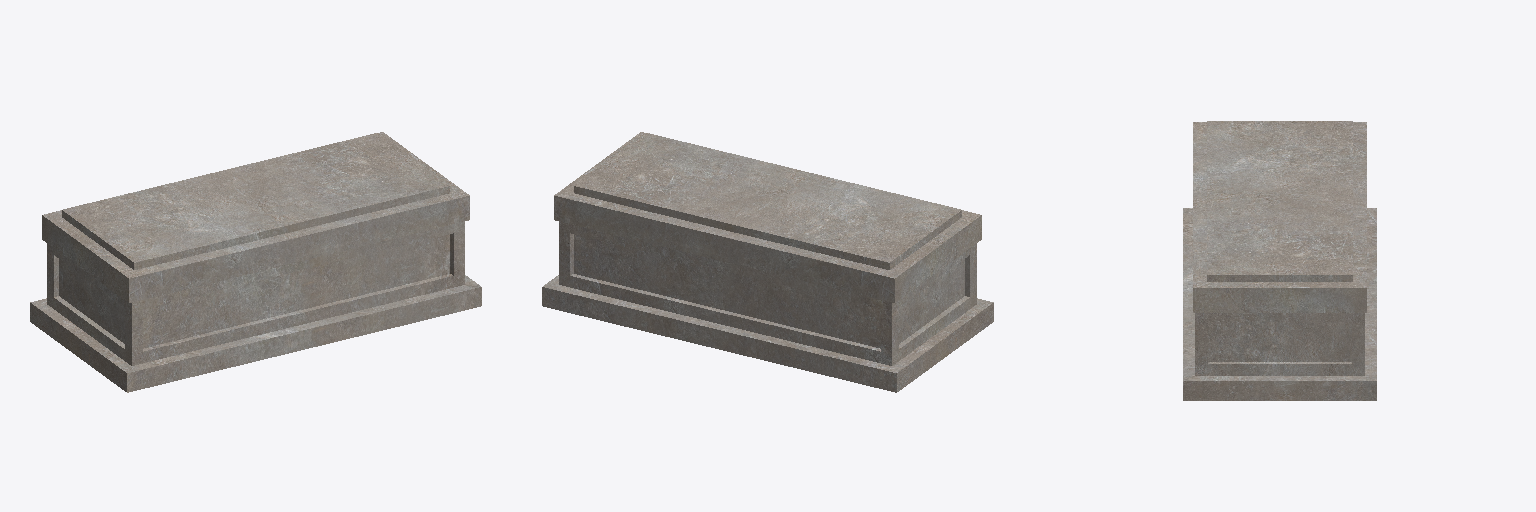
3 renders of one model, left to right at view 1: azimuth 30°, elevation 25°; view 2: azimuth 150°, elevation 25°; view 3: azimuth 270°, elevation 25°, orthographic.
Bounding box in the file's own units: 190 × 59.56 × 90.
1 materials, 1 textured.